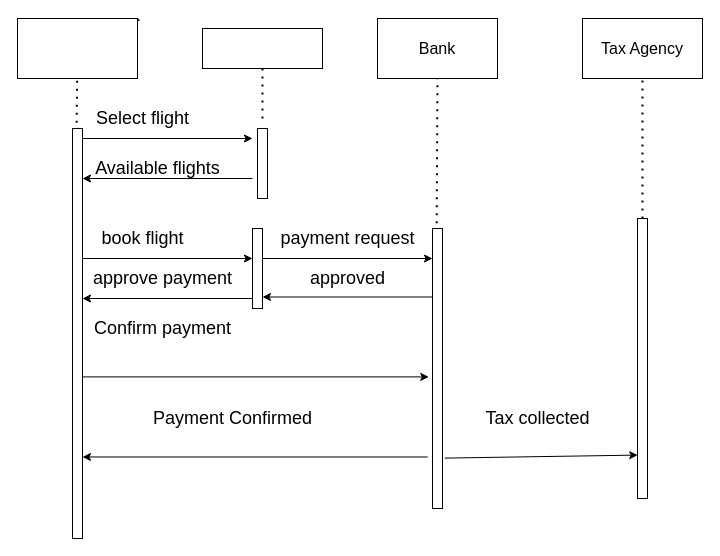
This 720x556 diagram has some shape labels left out. Each missing label, with the centre of its shape:
Bokning System: [262,48]
Customer: [77,48]
